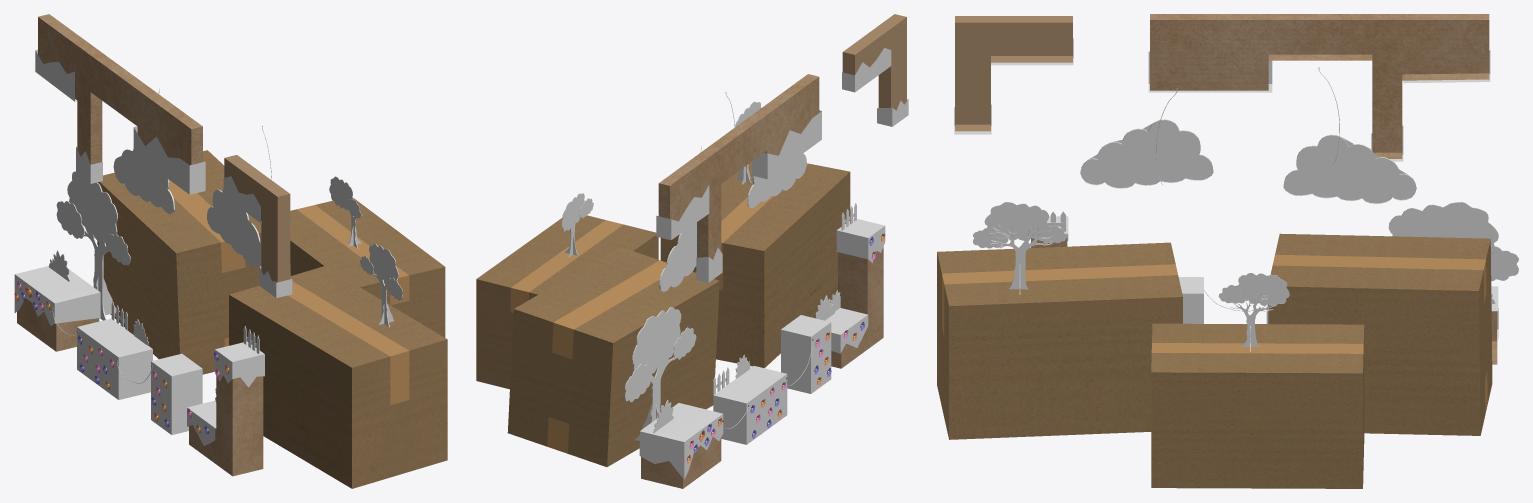
Rendered from Pantalla-1_def.fbx.
3 views of the same model, side by side, from view 1: azimuth 30°, elevation 25°; view 2: azimuth 150°, elevation 25°; view 3: azimuth 270°, elevation 25° (orthographic). The views are drawn at different scales.
Visible parts, largest first — view 1: Cube, Nivel 1.001, Caja_1, Caja_1.001, Nivel 1.003, Nivel 1.007, Arbol1.003, Nivel 1.004, Nivel 1.008, Nube.001, Nube, Nivel 1.010 (+7 smaller); view 2: Caja_1, Cube, Nivel 1.001, Caja_1.001, Nivel 1.003, Nivel 1.007, Nivel 1.004, Arbol1.003, Nivel 1.008, Nivel 1.010, Nube, Nube.001 (+6 smaller); view 3: Cube, Caja_1.001, Caja_1, Nivel 1.001, Nube.001, Nube, Arbol1.003, Arbol1.005, Arbol2.003, Arbol1.004, Nivel 1.004, Arbol2.002.
Boxes of the visible parts, bbox=[...] form: Cube: bbox=[229, 266, 447, 488]; Nivel 1.001: bbox=[17, 14, 290, 476]; Caja_1: bbox=[97, 150, 290, 374]; Caja_1.001: bbox=[290, 198, 445, 337]; Nivel 1.003: bbox=[77, 318, 152, 399]; Nivel 1.007: bbox=[14, 266, 100, 325]; Arbol1.003: bbox=[56, 171, 130, 265]; Nivel 1.004: bbox=[151, 353, 202, 434]; Nivel 1.008: bbox=[187, 341, 264, 445]; Nube.001: bbox=[207, 188, 261, 268]; Nube: bbox=[113, 149, 174, 213]; Nivel 1.010: bbox=[133, 126, 205, 194]; Caja_1: bbox=[507, 247, 719, 466]; Cube: bbox=[660, 162, 850, 368]; Nivel 1.001: bbox=[641, 14, 906, 488]; Caja_1.001: bbox=[476, 215, 658, 389]; Nivel 1.003: bbox=[713, 366, 787, 444]; Nivel 1.007: bbox=[639, 403, 723, 479]; Nivel 1.004: bbox=[781, 315, 831, 393]; Arbol1.003: bbox=[625, 307, 696, 402]; Nivel 1.008: bbox=[825, 218, 885, 353]; Nivel 1.010: bbox=[752, 110, 821, 179]; Nube: bbox=[659, 222, 696, 291]; Nube.001: bbox=[747, 153, 806, 207]; Cube: bbox=[937, 242, 1182, 439]; Caja_1.001: bbox=[1151, 323, 1364, 488]; Caja_1: bbox=[1268, 233, 1492, 435]; Nivel 1.001: bbox=[955, 14, 1497, 364]; Nube.001: bbox=[1080, 119, 1213, 188]; Nube: bbox=[1283, 134, 1416, 203]; Arbol1.003: bbox=[1388, 202, 1518, 281]; Arbol1.005: bbox=[973, 202, 1067, 248]; Arbol2.003: bbox=[1218, 273, 1289, 305]; Arbol1.004: bbox=[990, 224, 1052, 294]; Nivel 1.004: bbox=[1178, 277, 1203, 323]; Arbol2.002: bbox=[1230, 293, 1275, 351].
Size of the model in its own units: 3857 by 4056 by 6321.
